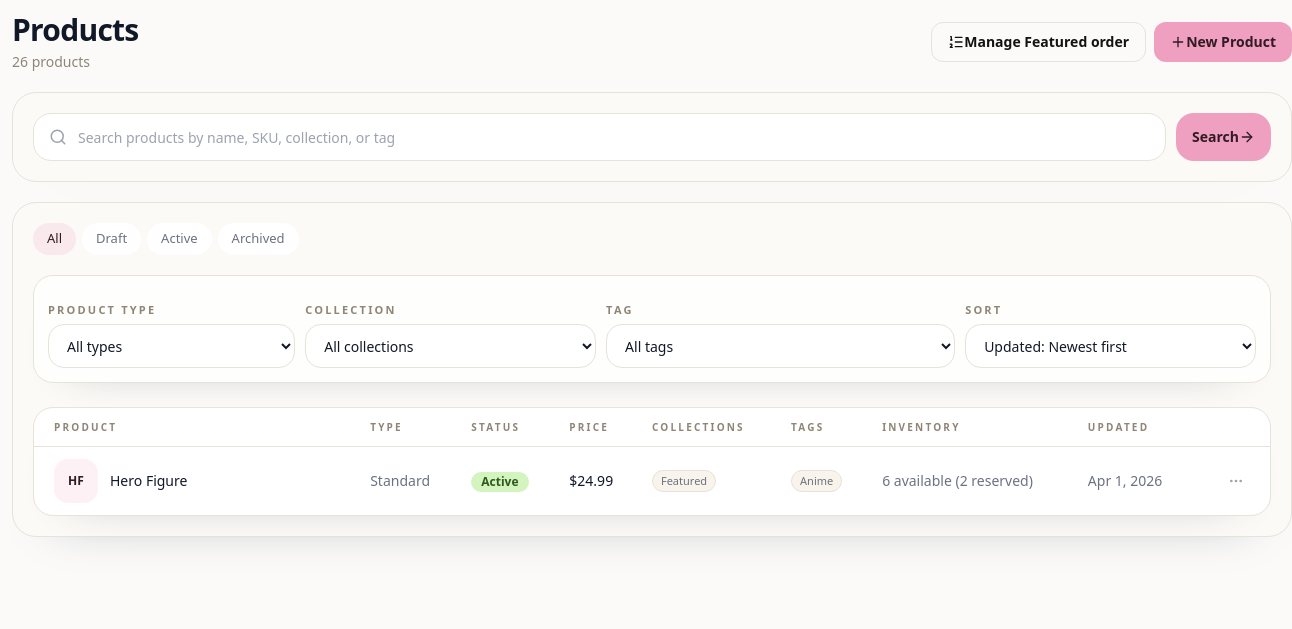
Scenario: AdminProductsPage › updates the total for search and restores it when search is cleared
The image size is (1292, 629).
Check: the text "26 products" is shown, box top-left (12, 52), bottom-right (90, 71)
Type "hero" into the search field labelled "Search products".
click(600, 137); type("hero")  # box top-left (33, 113), bottom-right (1166, 161)
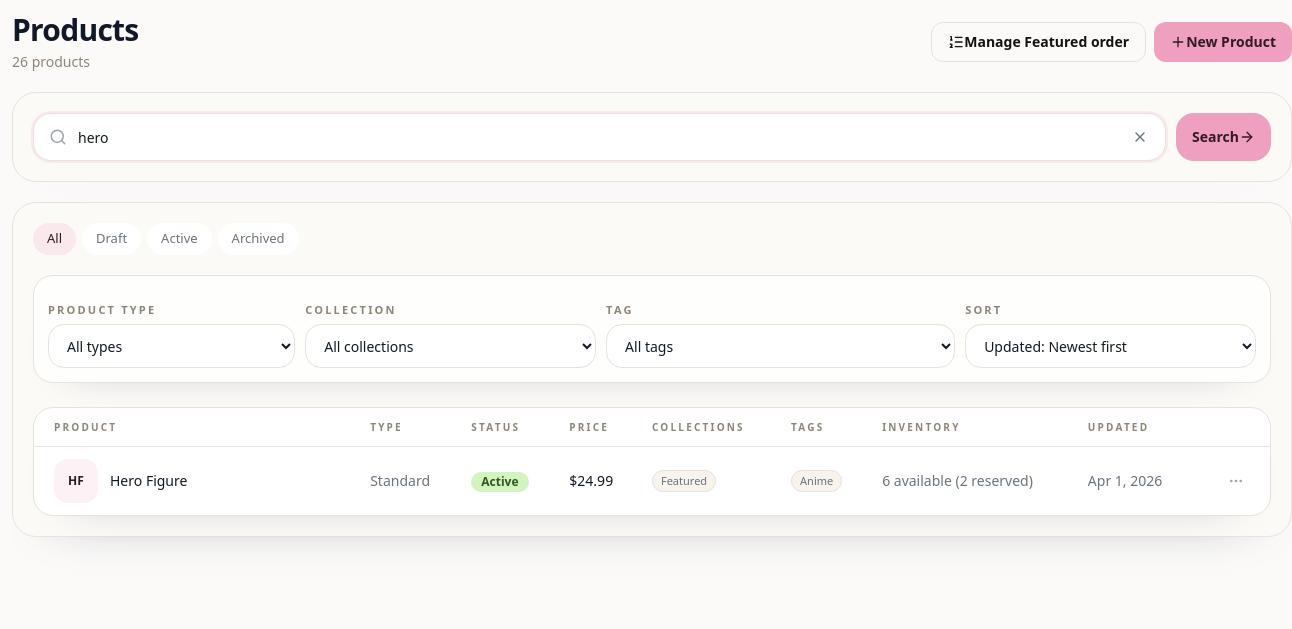
Click the button "Search".
click(1224, 137)  # box top-left (1176, 113), bottom-right (1271, 161)
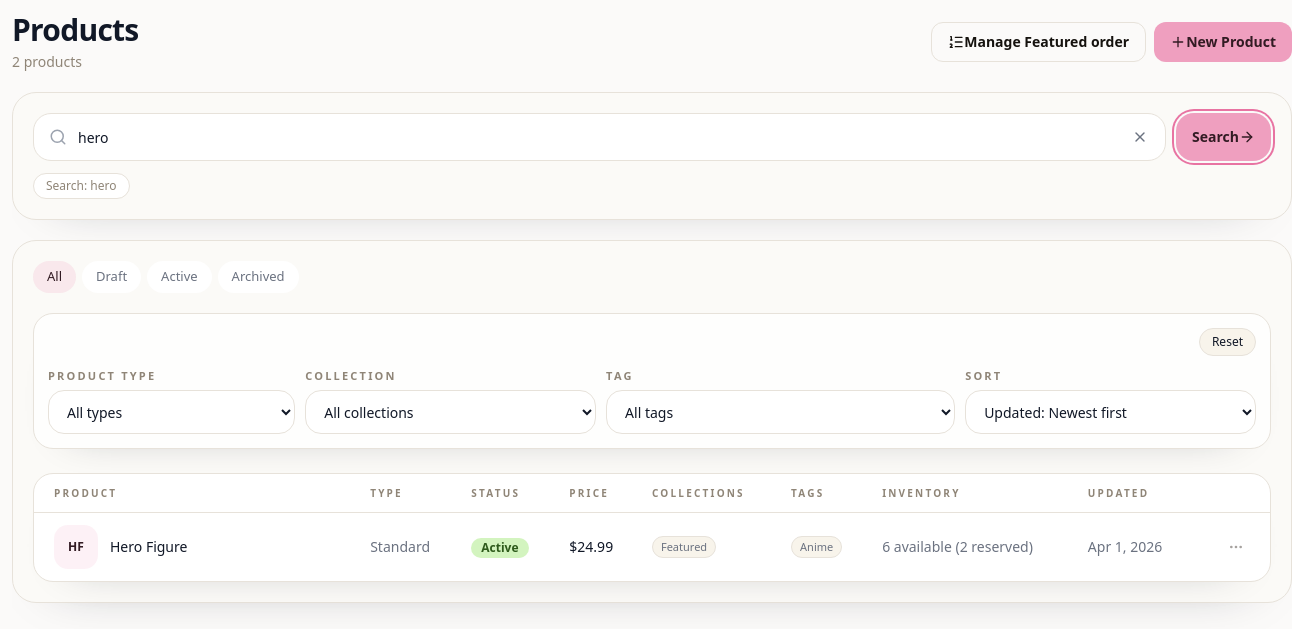
Check: the text "2 products" is shown, box top-left (12, 52), bottom-right (82, 71)
Click the button named "Clear search products".
click(1140, 137)  # box top-left (1124, 121), bottom-right (1156, 153)
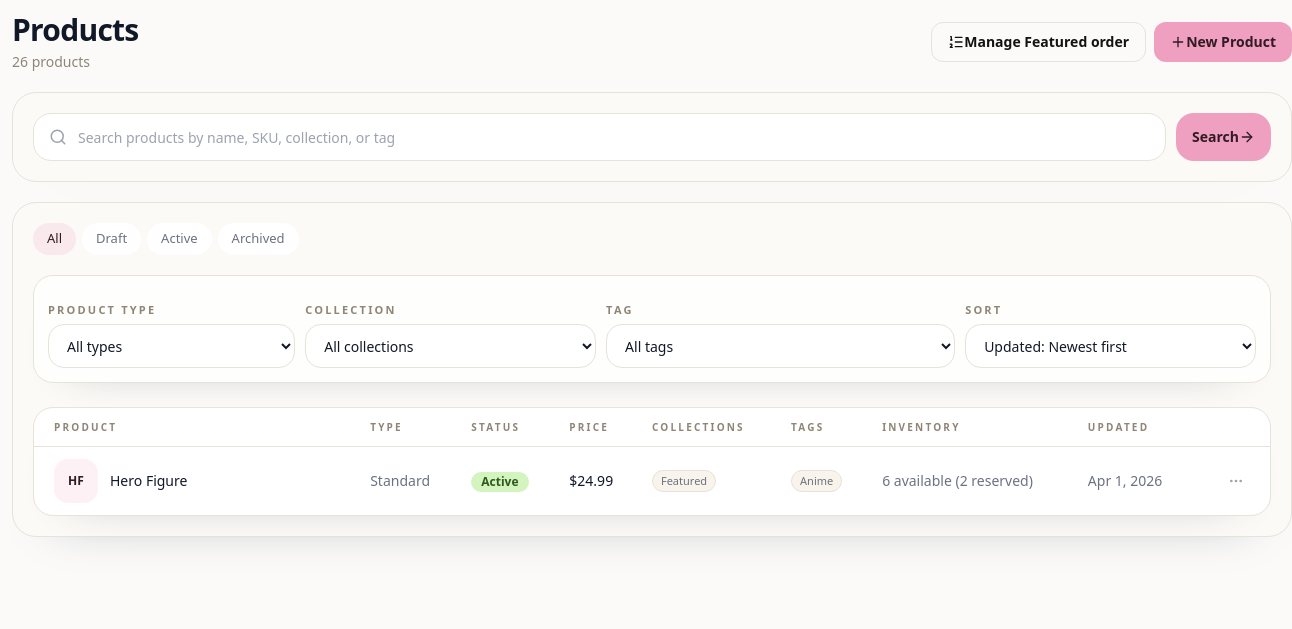
Check: the text with test id "admin-product-count" no longer shows "2 products", box top-left (12, 52), bottom-right (90, 71)
